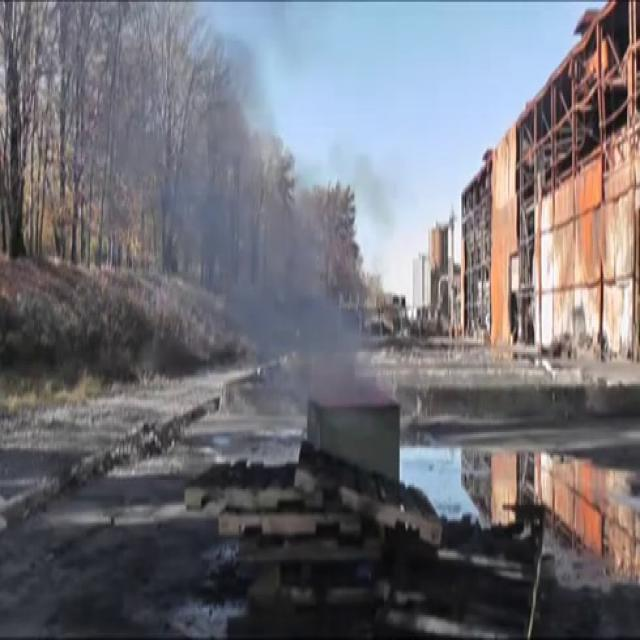Smoke: (167, 35, 380, 448)
